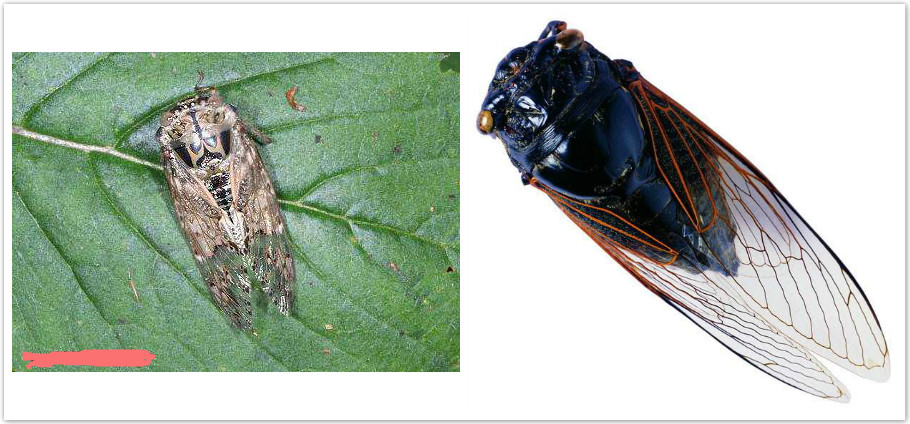chan: (483, 21, 889, 403), (147, 80, 300, 324)
